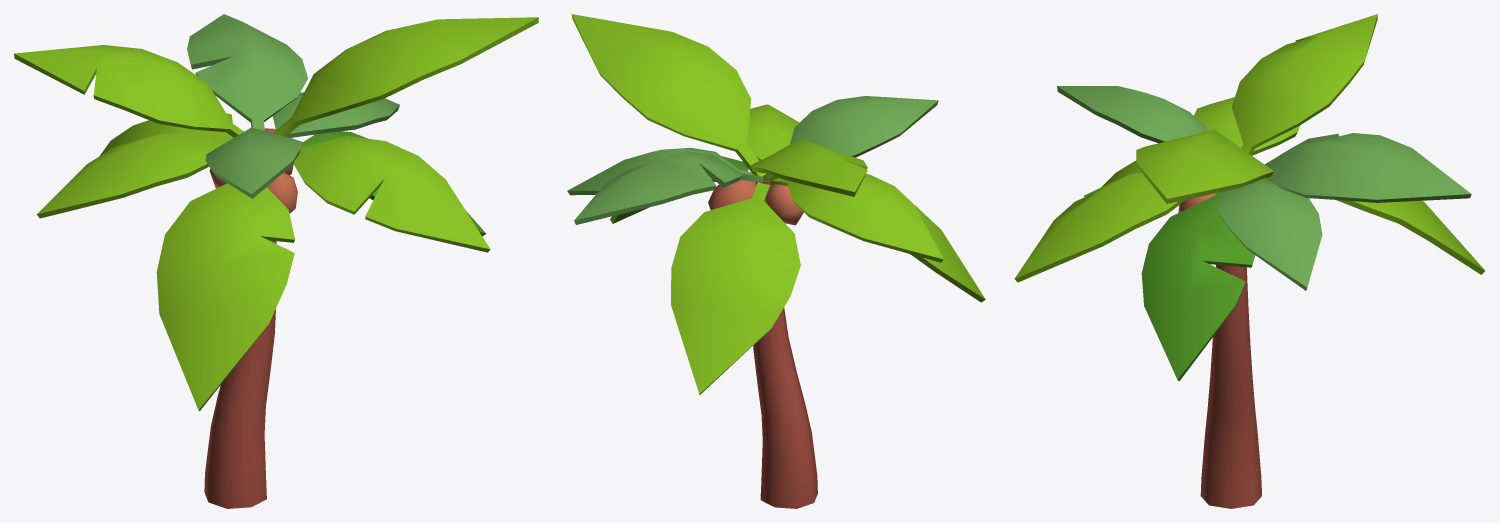
The model's file is PalmTree_02.fbx.
3 views of the same model, side by side, from view 1: azimuth 30°, elevation 25°; view 2: azimuth 150°, elevation 25°; view 3: azimuth 270°, elevation 25° (orthographic). The views are drawn at different scales.
Visible parts, largest first — view 1: PalmTree_02; view 2: PalmTree_02; view 3: PalmTree_02.
Boxes of the visible parts, <box> form: PalmTree_02: <box>14,14,538,508</box>; PalmTree_02: <box>567,14,985,508</box>; PalmTree_02: <box>1014,14,1484,508</box>.
Size of the model in its own units: 10.61 by 9.96 by 9.79.
